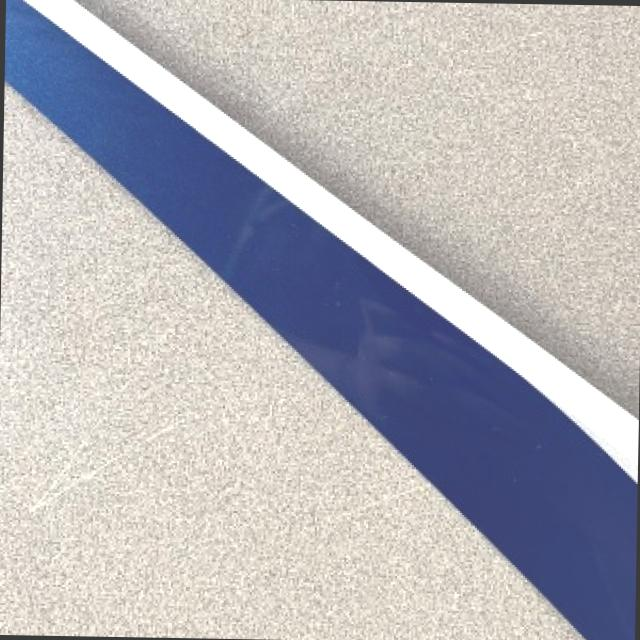healthy: (6, 0, 638, 640)
